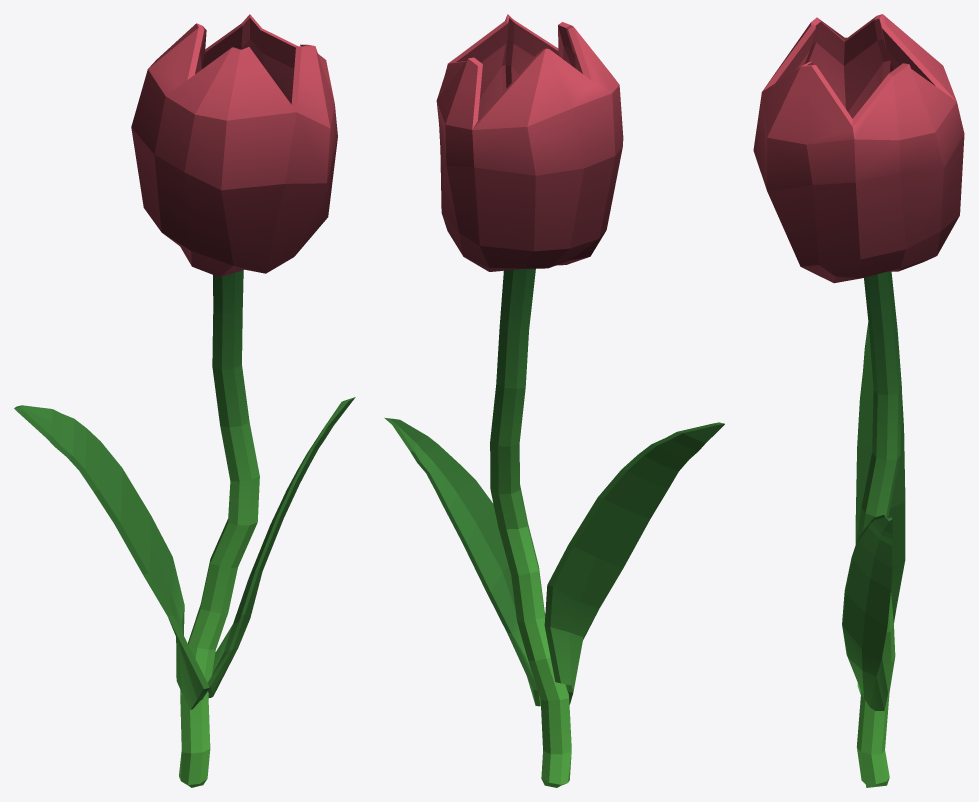
The model's file is Flower1LOD.fbx.
3 views of the same model, side by side, from view 1: azimuth 30°, elevation 25°; view 2: azimuth 150°, elevation 25°; view 3: azimuth 270°, elevation 25° (orthographic). The views are drawn at different scales.
Parts seen in each view (by area): view 1: Flor_LOD0; view 2: Flor_LOD0; view 3: Flor_LOD0.
Part boxes in pixels (box(x1,y1,x2,y2)): Flor_LOD0: box(14, 14, 355, 787); Flor_LOD0: box(384, 14, 724, 787); Flor_LOD0: box(753, 14, 964, 787).
Size of what is drawn, in the model's own units: 39.11 by 81.71 by 20.18.
Materials: 2 (2 with a texture image).
